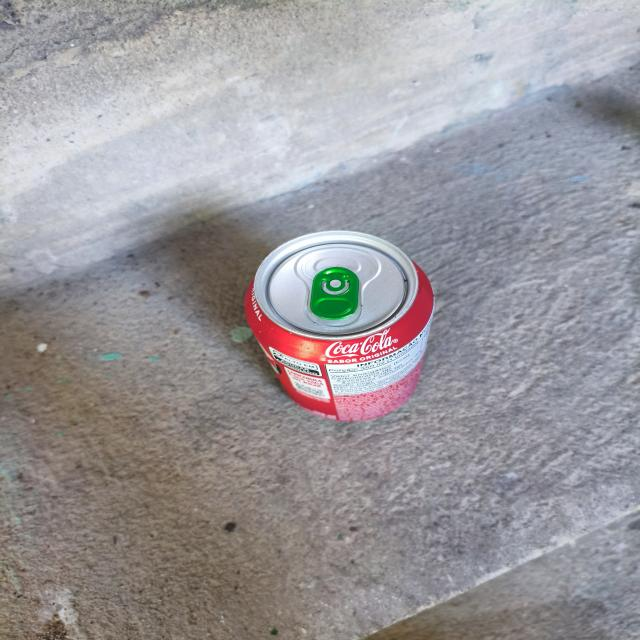Coca Cola: (245, 230, 432, 419)
